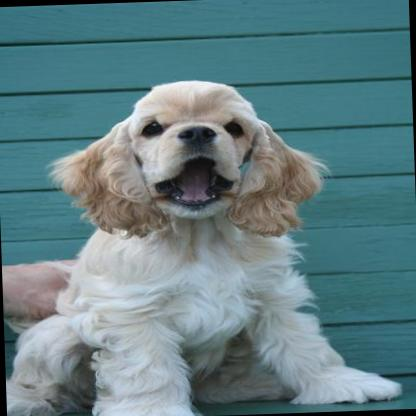cocker_spaniel: (0, 73, 398, 416)
